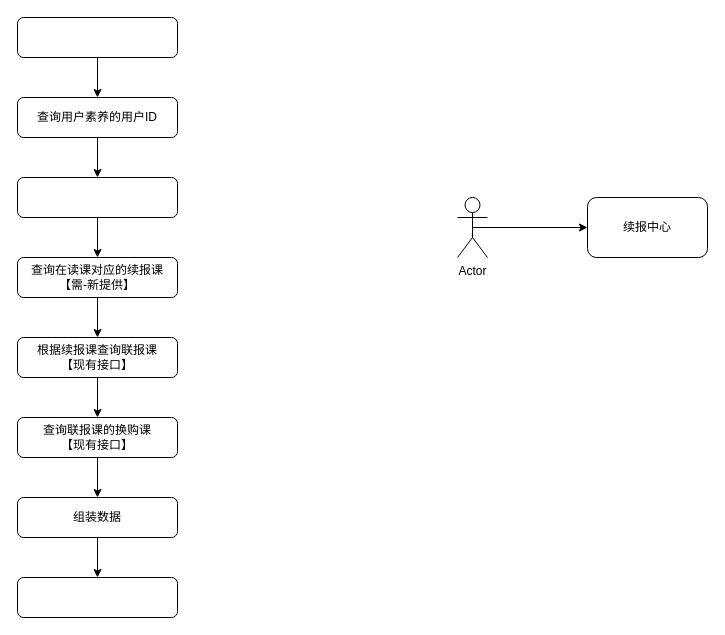
Image size: 725x635. Some labels were removed from this diagram. The centre of each missing label's shape, as x and y in pixels:
"开始" belongs at point 97,37.
"查询素养在读课 【调素养的供应链】" belongs at point 97,197.
"结束" belongs at point 97,597.
